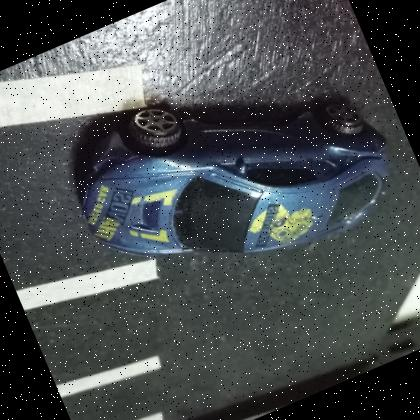Car: (75, 95, 389, 256)
